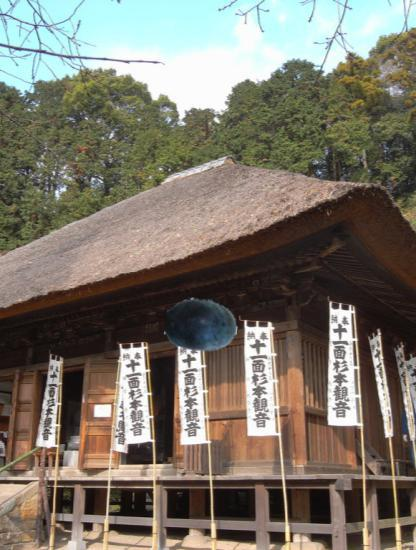Blueberry: (166, 289, 238, 361)
